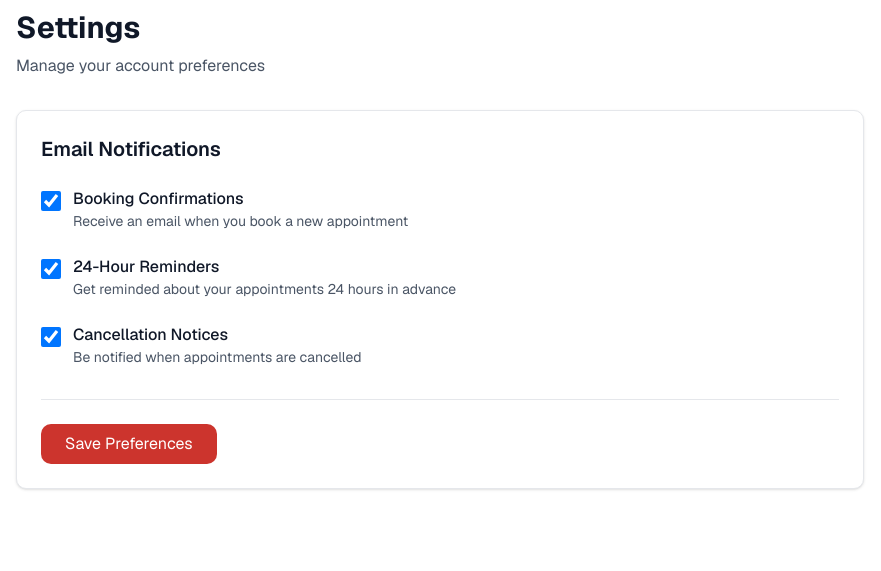
Settings Page › updates preferences on save
The width and height of the screenshot is (881, 571).
Click the button "Save Preferences" at point(129, 444), box [41,424,217,464]
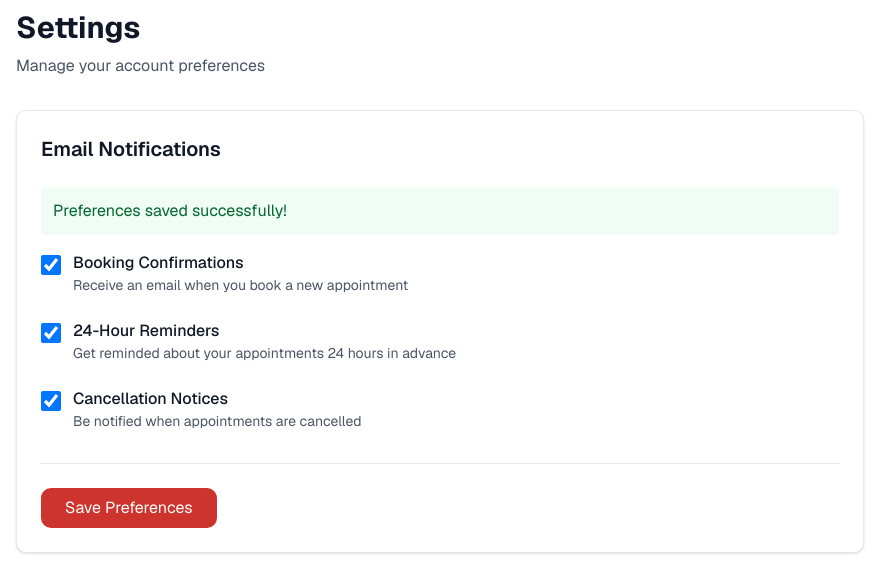
Expected: the text "Preferences saved successfully!" is shown, [41,187,839,235]
